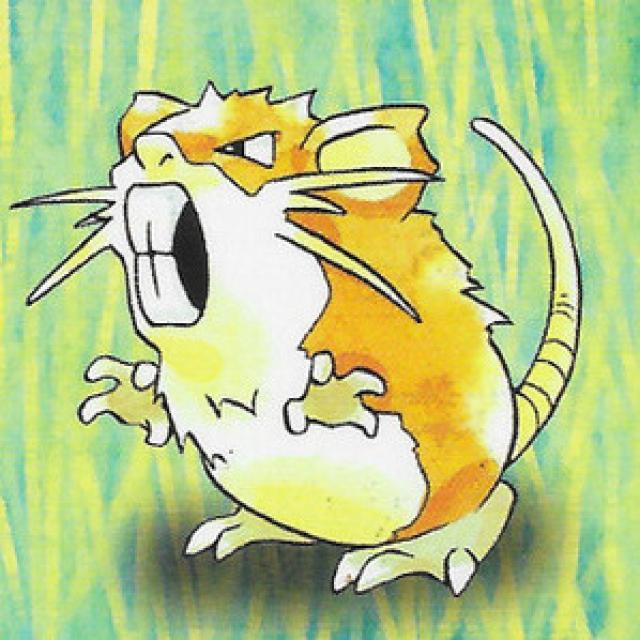Raticate: (88, 80, 541, 608)
